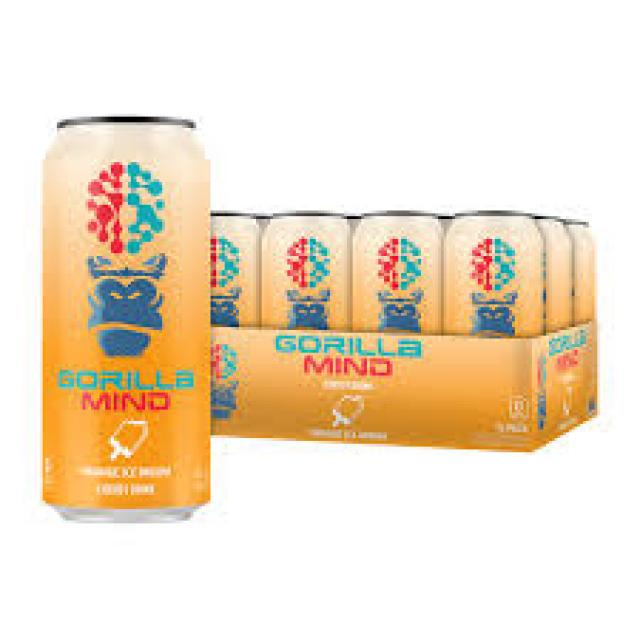Cans: (28, 105, 234, 526)
